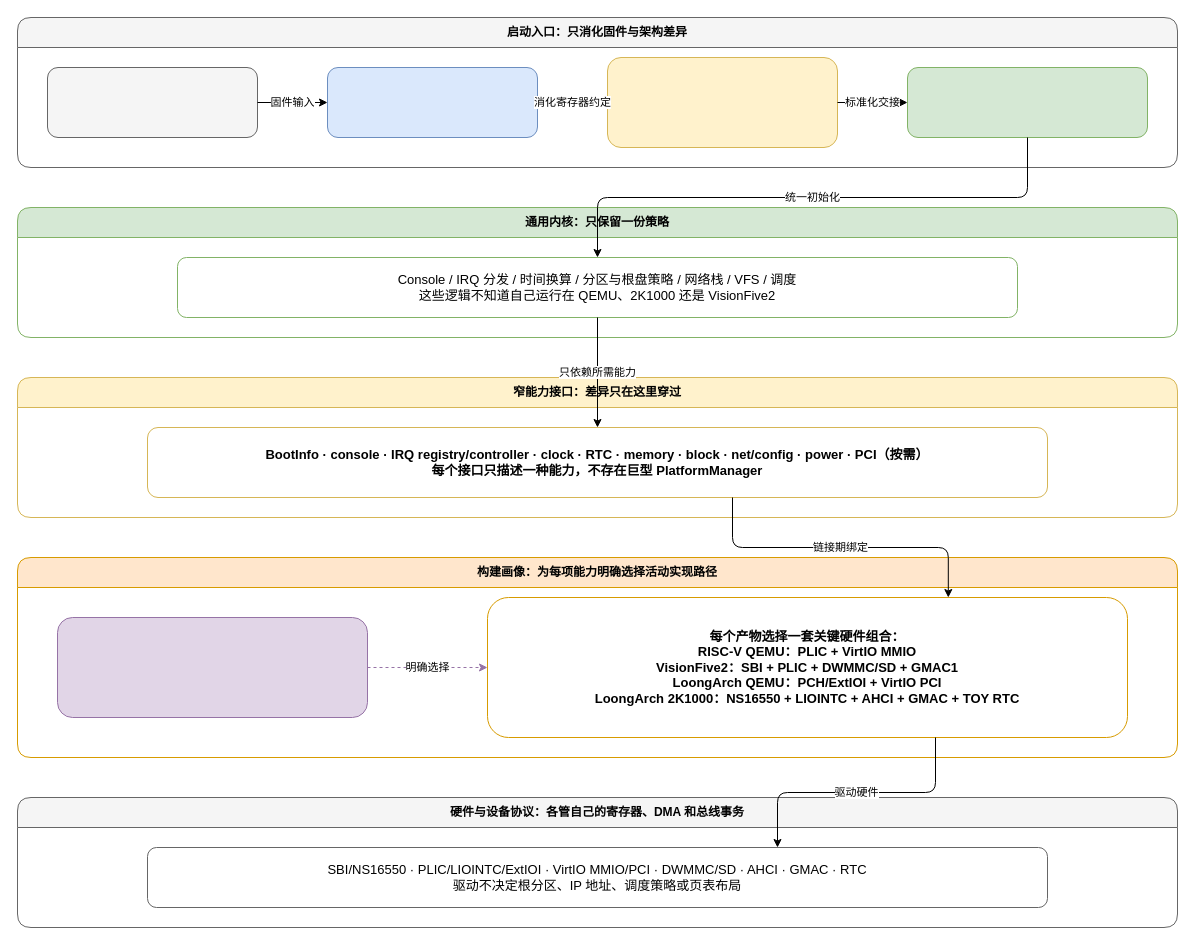
Image size: 1195x945. Some labels were removed from this diagram. Each missing label, with the centre of its shape:
"mk/platform/{arch}-{board}.mk 选择架构/平台/驱动、链接脚本、输出目录 不做运行时插件发现" belongs at point 212,667.
"唯一公共启动 boot::initialize_kernel()" belongs at point 1027,102.
"固件输入 入口寄存器 / U-Boot argv / DTB" belongs at point 152,102.
"架构入口 RISC-V / LoongArch" belongs at point 432,102.
"标准启动输入 BootInfo boot_cpu_hwid device_tree_paddr" belongs at point 722,102.
